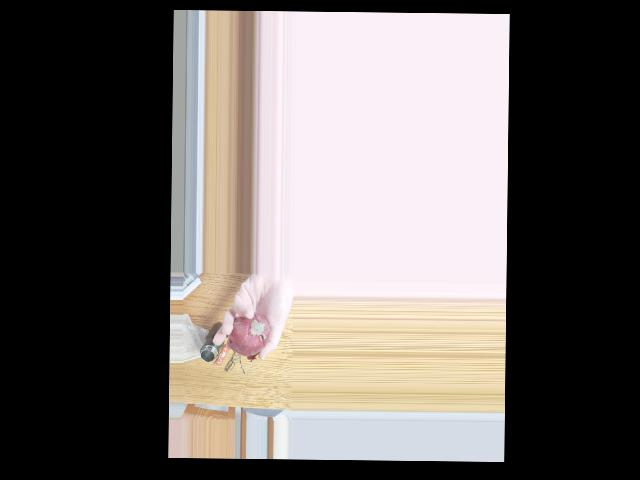onion: (231, 312, 270, 352)
